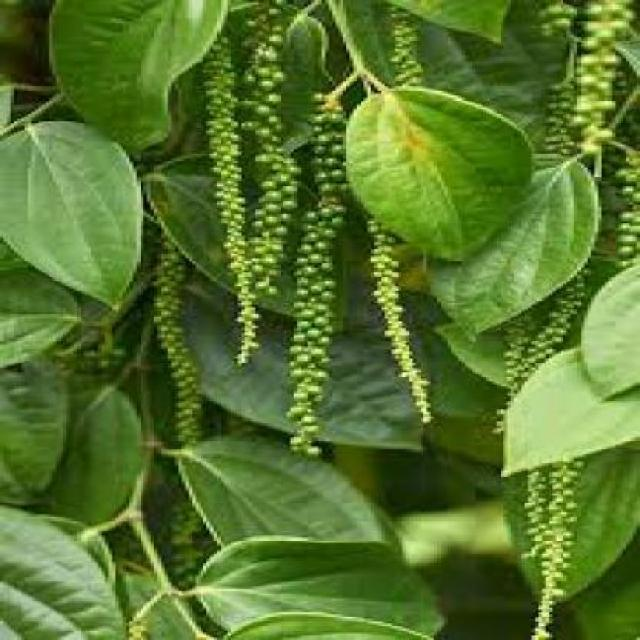UNRIPE: (206, 9, 272, 363), (126, 228, 192, 508), (287, 92, 336, 440), (367, 205, 448, 389), (563, 0, 627, 138)
